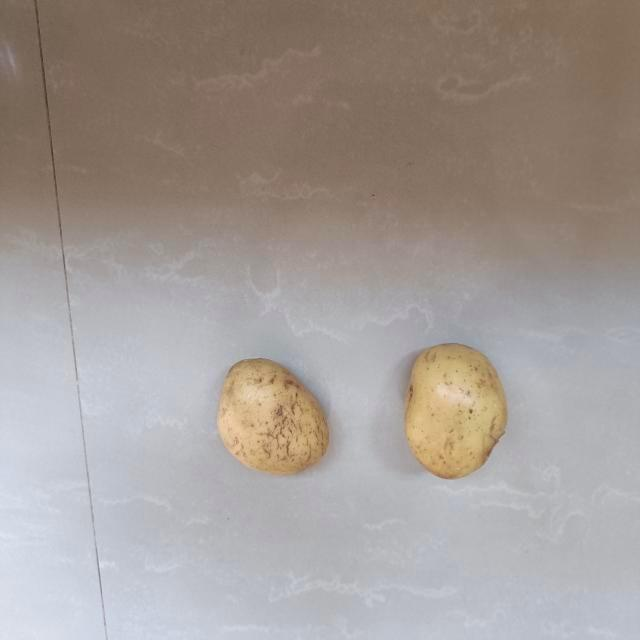potato: (213, 355, 335, 478), (404, 343, 510, 484)
